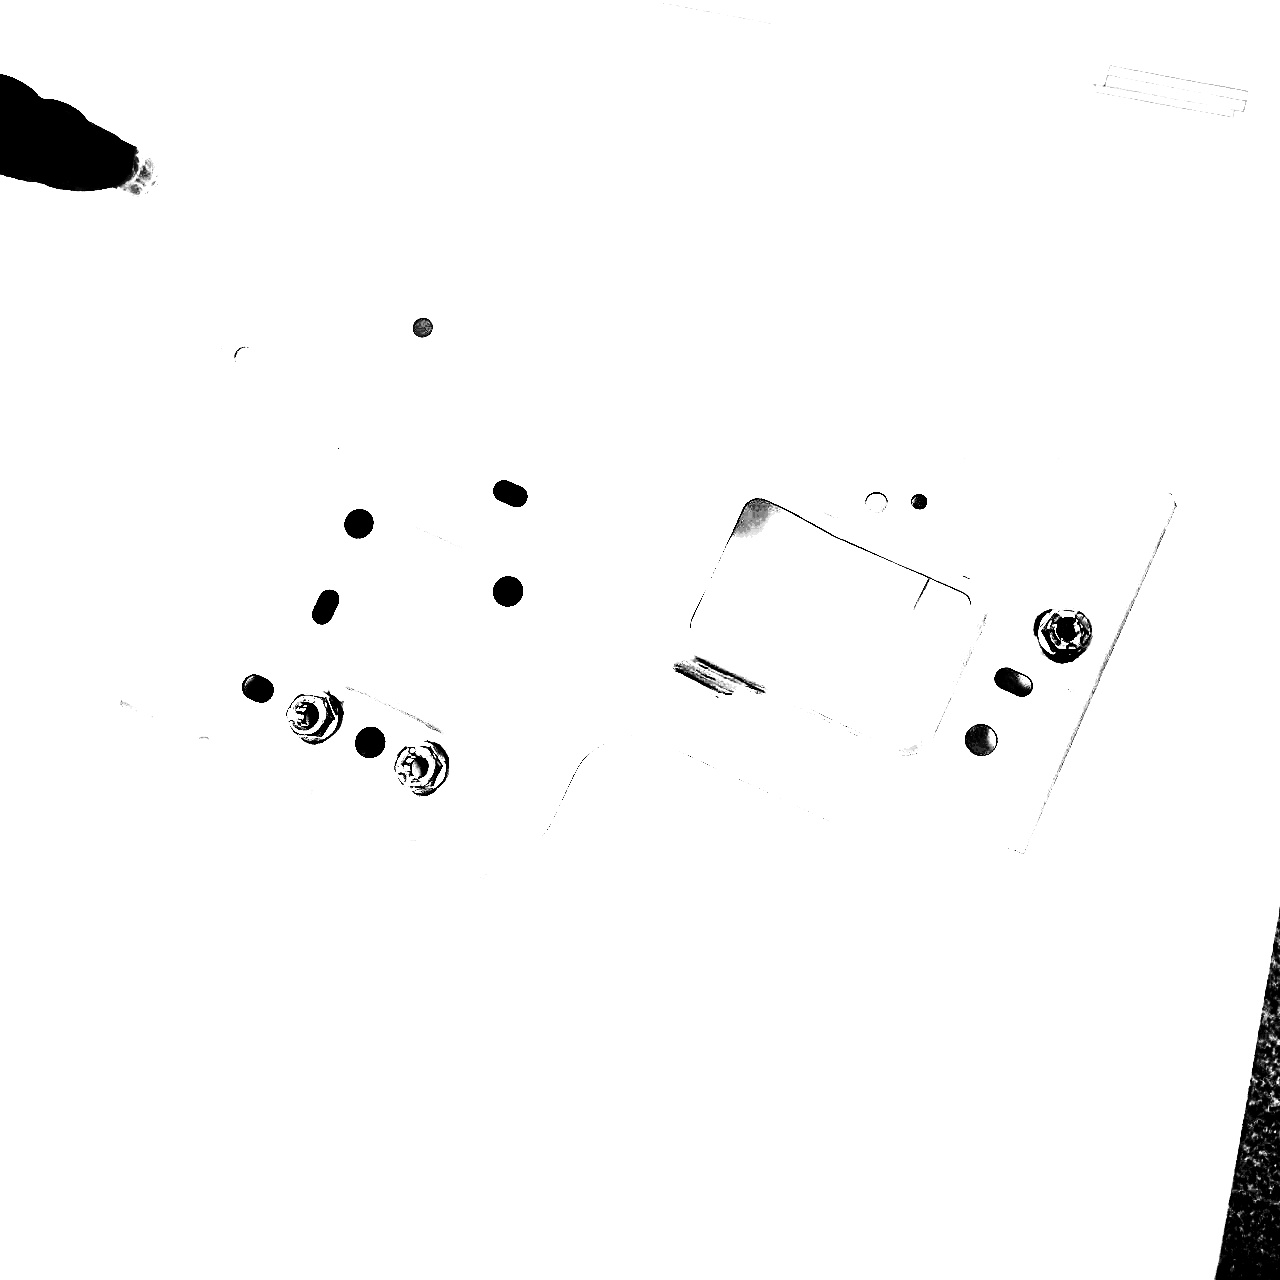dog: (1028, 604, 1094, 666), (282, 685, 346, 748), (392, 736, 452, 799)
